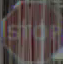Stop: (5, 3, 57, 52)
